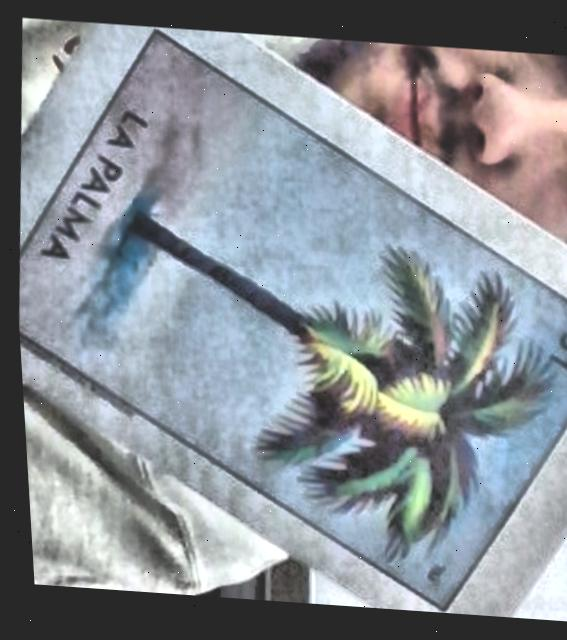La Palma: (14, 31, 567, 607)
